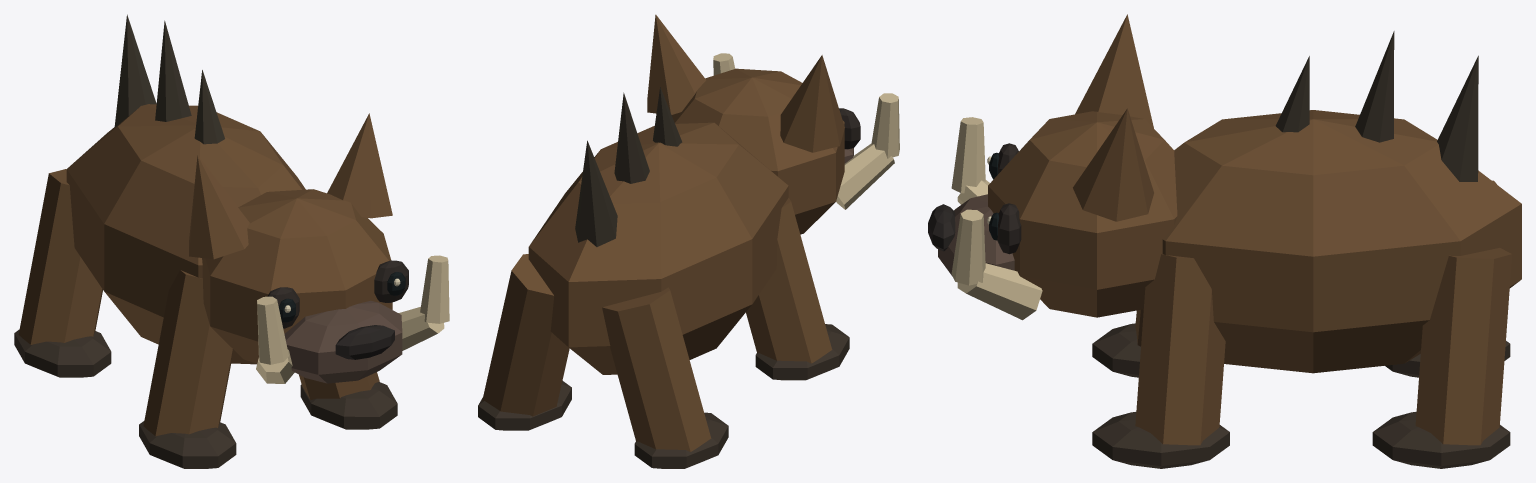
The model's file is fauna-ironwood_boar.glb.
3 renders of one model, left to right at view 1: azimuth 30°, elevation 25°; view 2: azimuth 150°, elevation 25°; view 3: azimuth 270°, elevation 25°, orthographic. The views are drawn at different scales.
Visible parts, largest first — view 1: Fauna_ironwood_boar; view 2: Fauna_ironwood_boar; view 3: Fauna_ironwood_boar.
Part boxes in pixels (x1,y1,x2,y2): Fauna_ironwood_boar: (14, 14, 449, 468); Fauna_ironwood_boar: (478, 14, 899, 468); Fauna_ironwood_boar: (928, 14, 1521, 468).
Size of the model in its own units: 0.9118 by 1.26 by 1.76.
